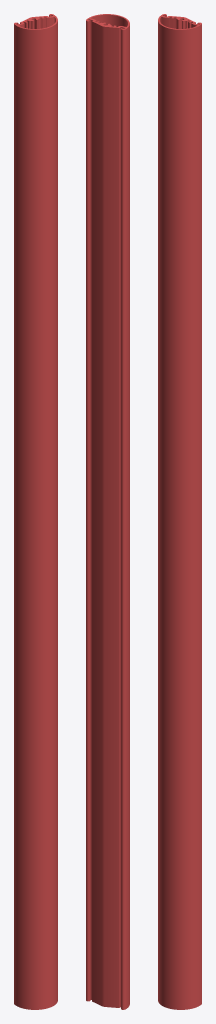
3 views of the same model, side by side, from view 1: azimuth 30°, elevation 25°; view 2: azimuth 150°, elevation 25°; view 3: azimuth 330°, elevation 25° (orthographic).
Parts seen in each view (by area): view 1: _______________AL_1; view 2: _______________AL_1; view 3: _______________AL_1.
Part boxes in pixels (x1,y1,x2,y2): _______________AL_1: (14, 14, 57, 1009); _______________AL_1: (86, 14, 129, 1009); _______________AL_1: (158, 14, 201, 1009).
Bounding box in the file's own units: 25.4 × 600 × 16.96.
